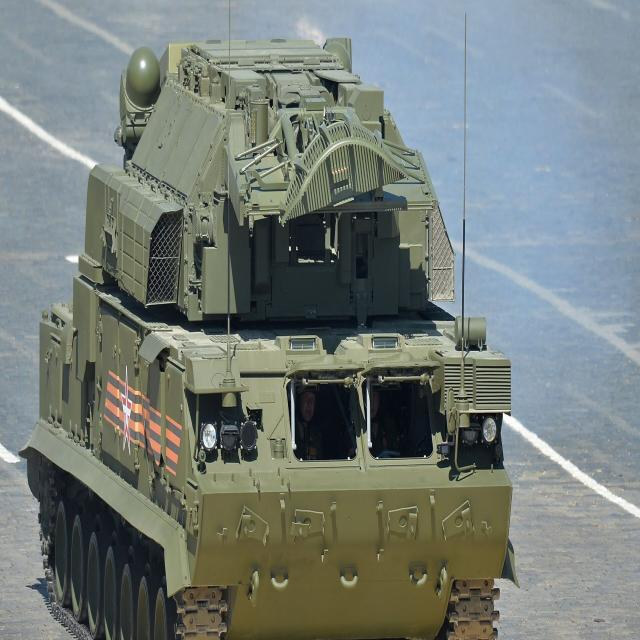MIL_EW_RDR: (21, 37, 519, 640)
